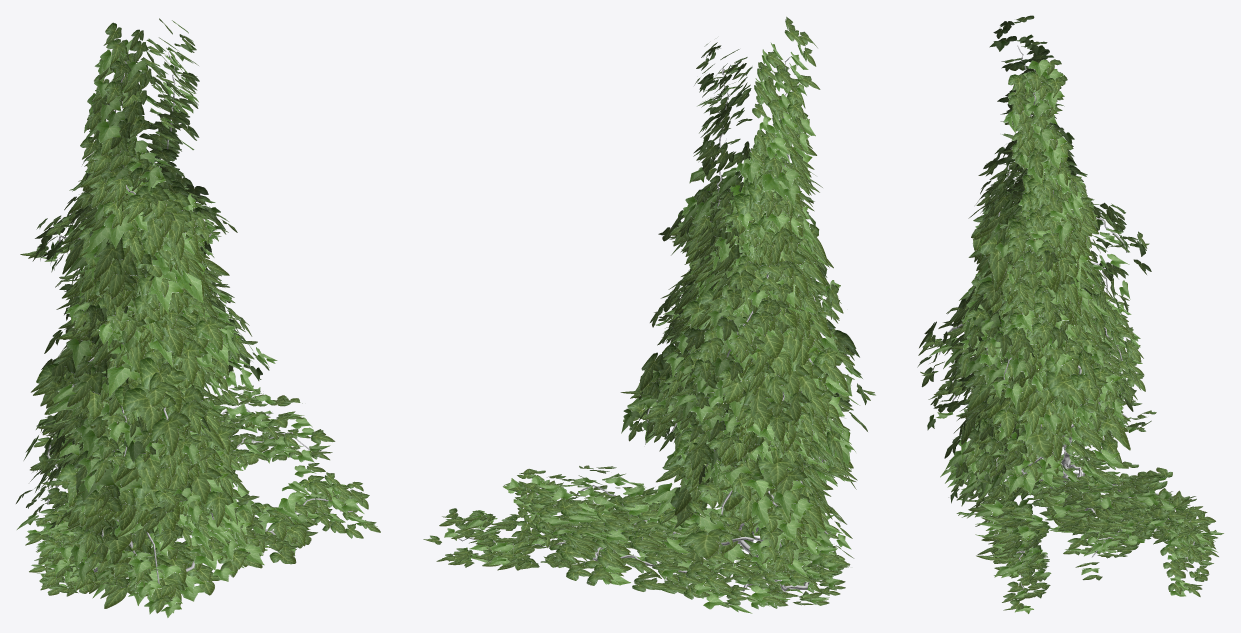
The model's file is IVYStyAndTelegraphPole01a.fbx.
The picture shows the model from 3 angles, left to right: view 1: azimuth 30°, elevation 25°; view 2: azimuth 150°, elevation 25°; view 3: azimuth 270°, elevation 25°; orthographic projection. The views are drawn at different scales.
Parts seen in each view (by area): view 1: default; view 2: default; view 3: default.
Boxes of the visible parts, bbox=[...] form: default: bbox=[16, 18, 380, 617]; default: bbox=[423, 16, 875, 613]; default: bbox=[917, 15, 1223, 613].
Bounding box in the file's own units: 341 × 531 × 303.
